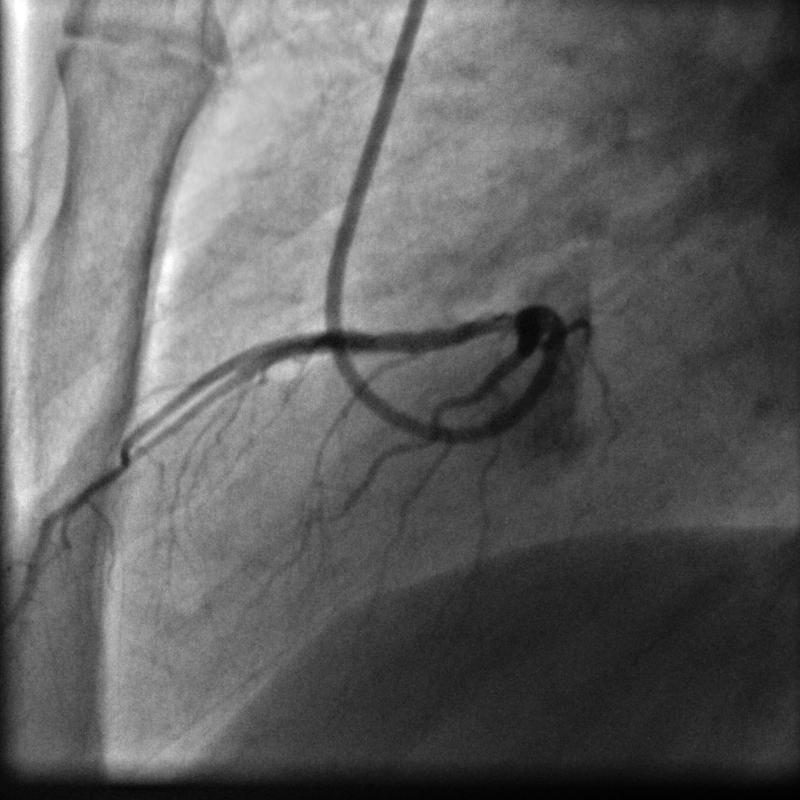Stenosis: (352, 326, 385, 351)
